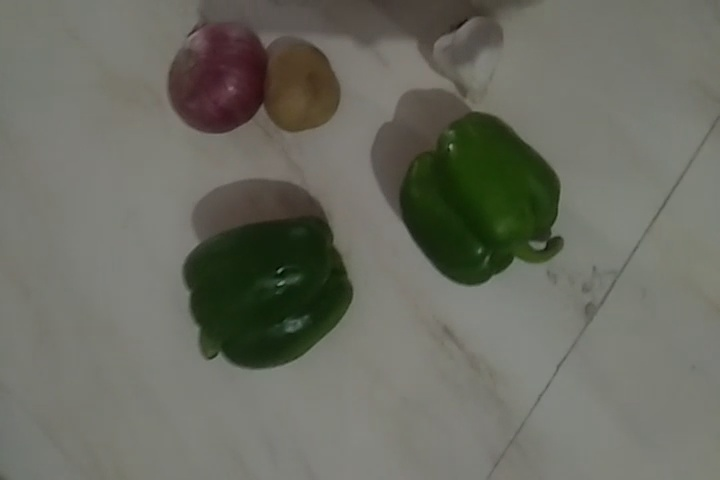capsicum: (165, 217, 345, 374), (403, 118, 561, 287)
garlic: (427, 17, 514, 101)
onion: (167, 20, 264, 139)
potato: (265, 34, 343, 137)
